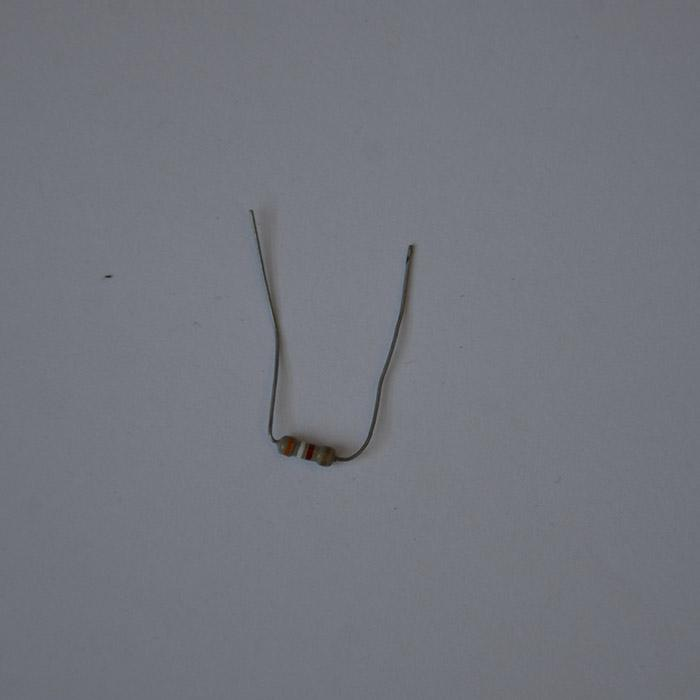resistor: (275, 434, 337, 466)
